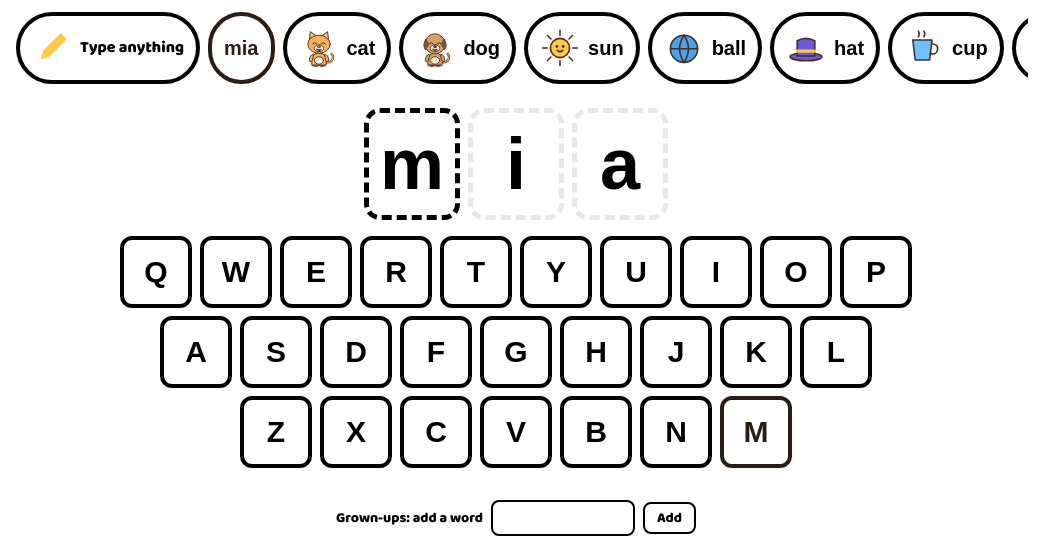
Scenario: word builder › builds the word from key presses (any case)
Step 1. Click the button "cat" → (337, 48), box left=282, top=12, right=391, bottom=84
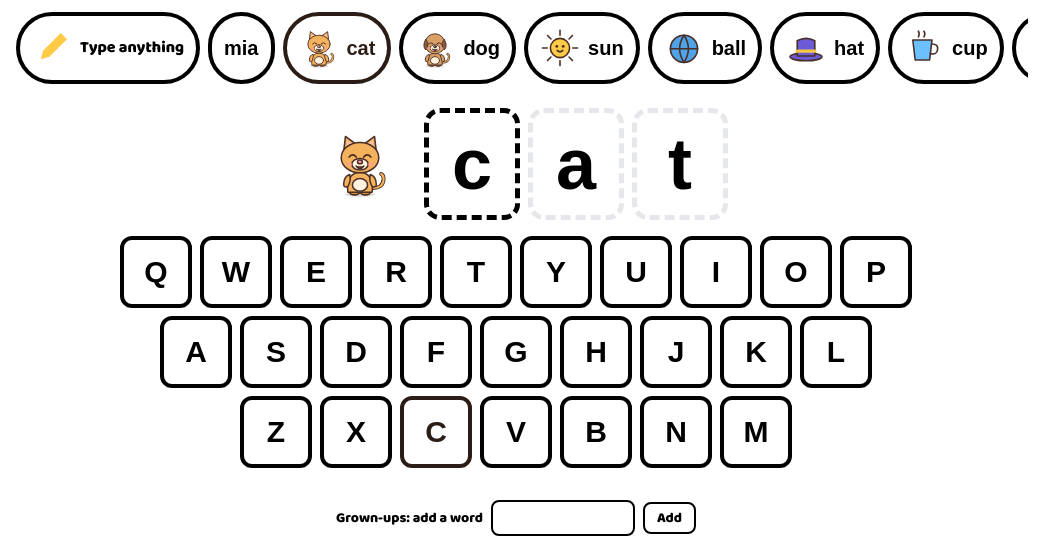
Step 2. Press c
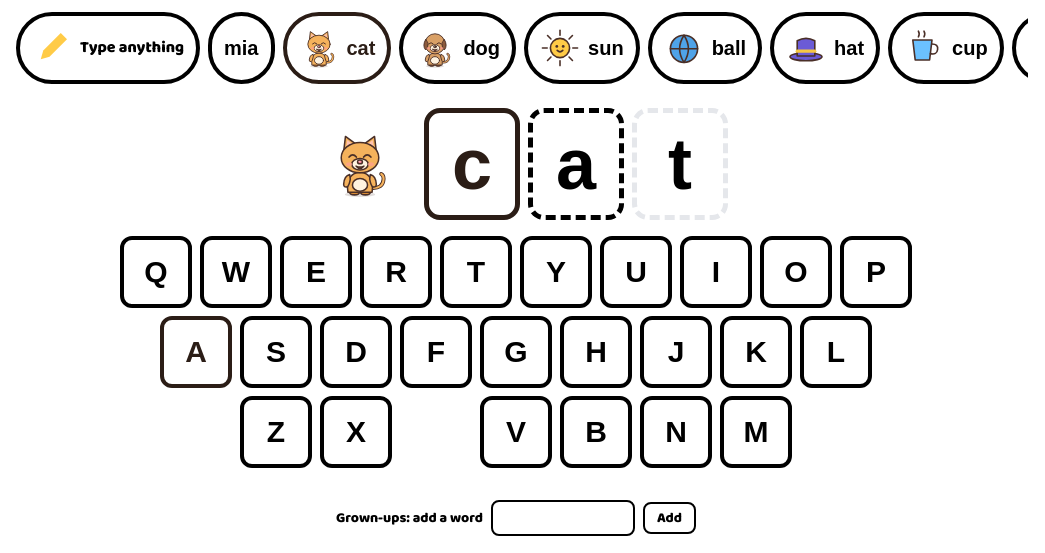
Step 3. Press A
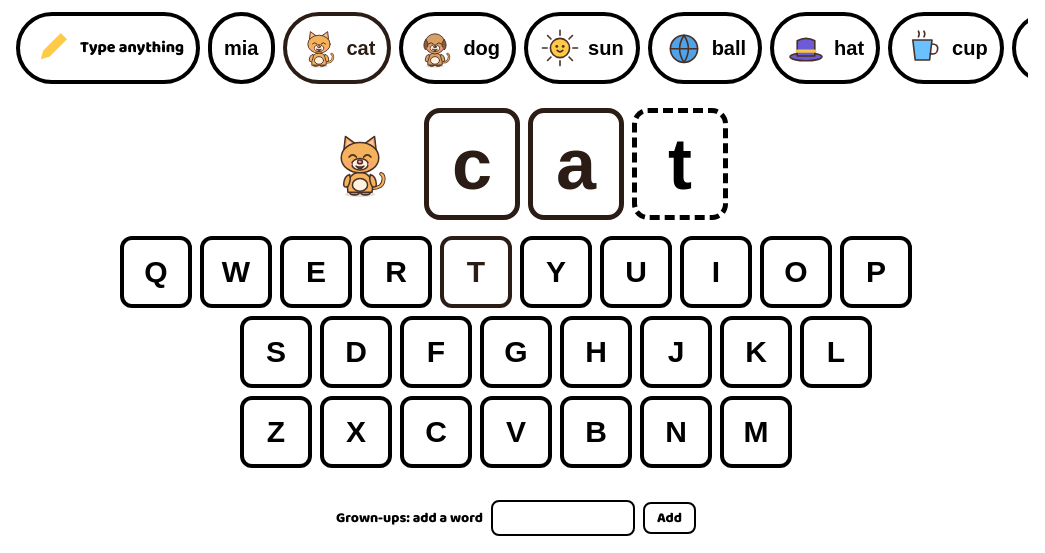
Step 4. Press t
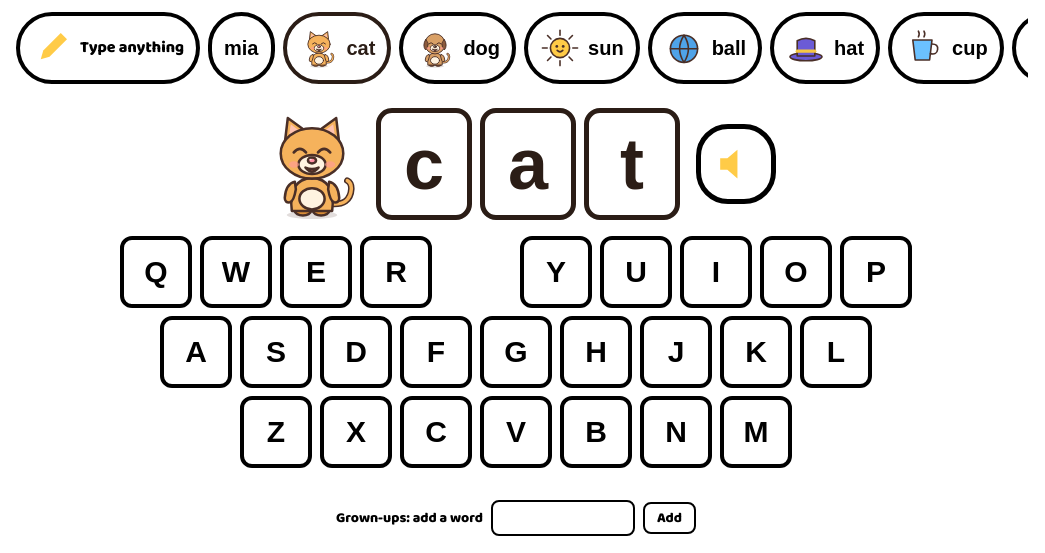
Expected: the button named "Say my word" is shown, left=696, top=124, right=776, bottom=204
